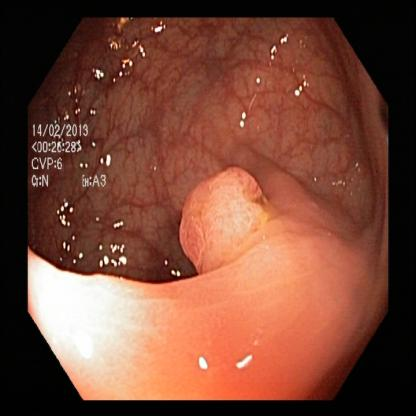Labels: (28, 119, 116, 194)
Polyps: (171, 160, 294, 274)
